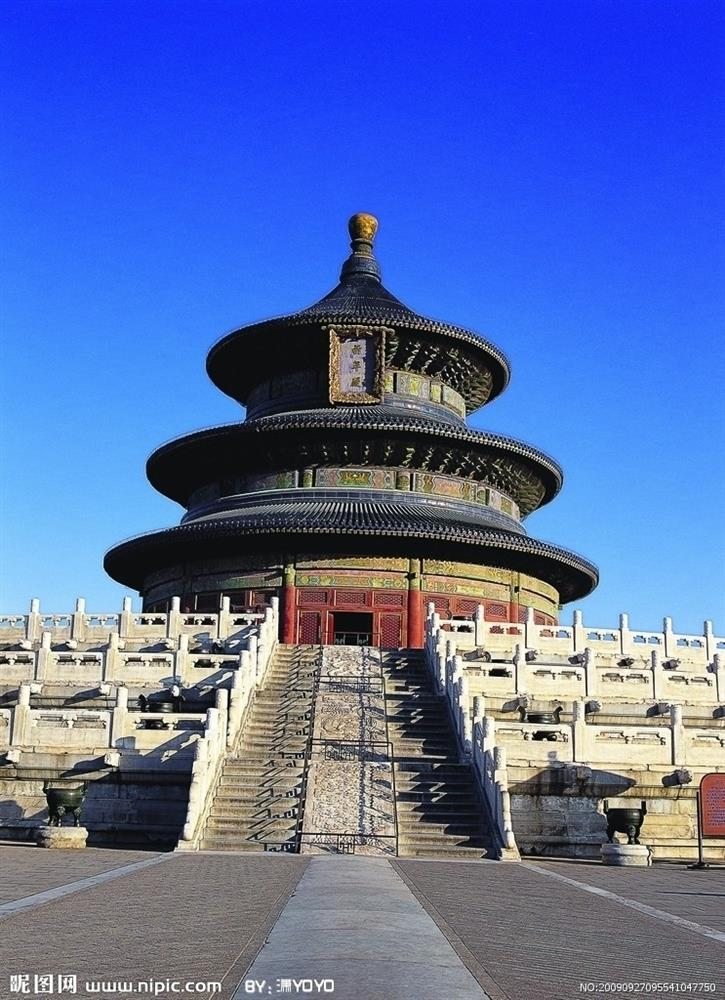Temple_of_Heaven: (90, 200, 598, 633)
